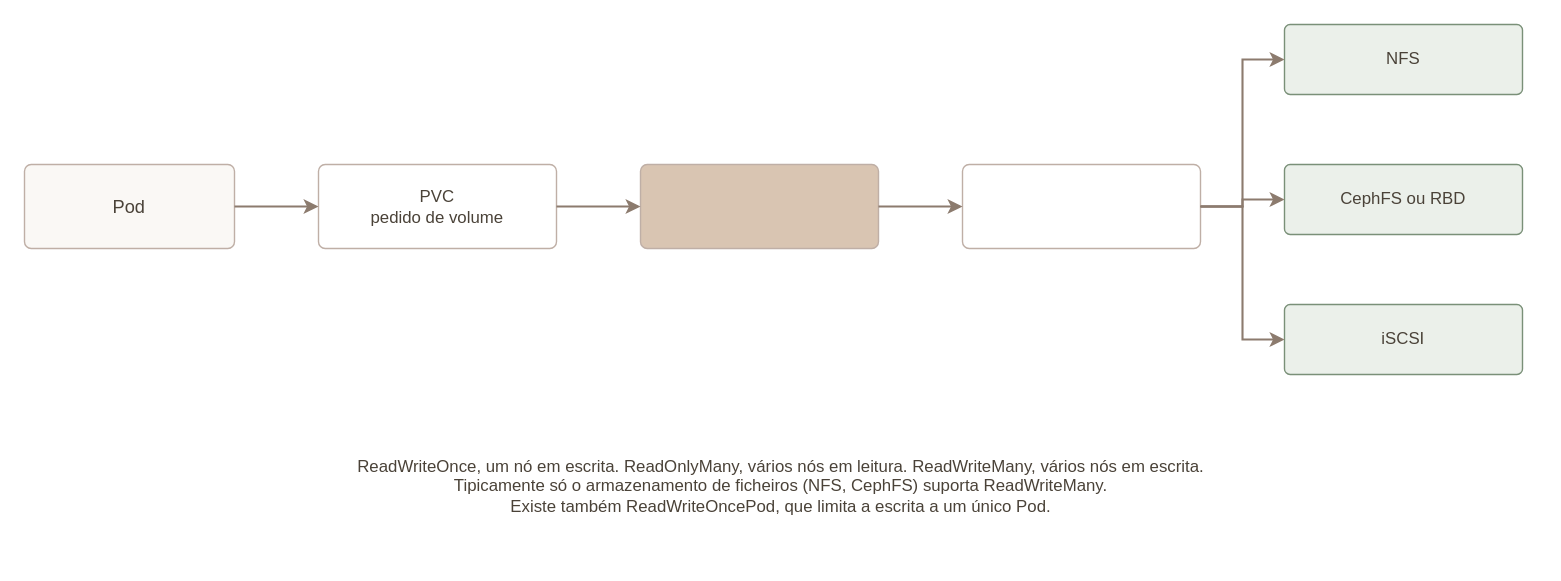
The diagram is 1561 pixels wide and 581 high, and some of its shapes have lost their labels. Here are the shapes that lost their labels. From the top down, the box of each, then its label:
(639, 163, 878, 248): PV volume
(961, 163, 1200, 248): Driver CSI
